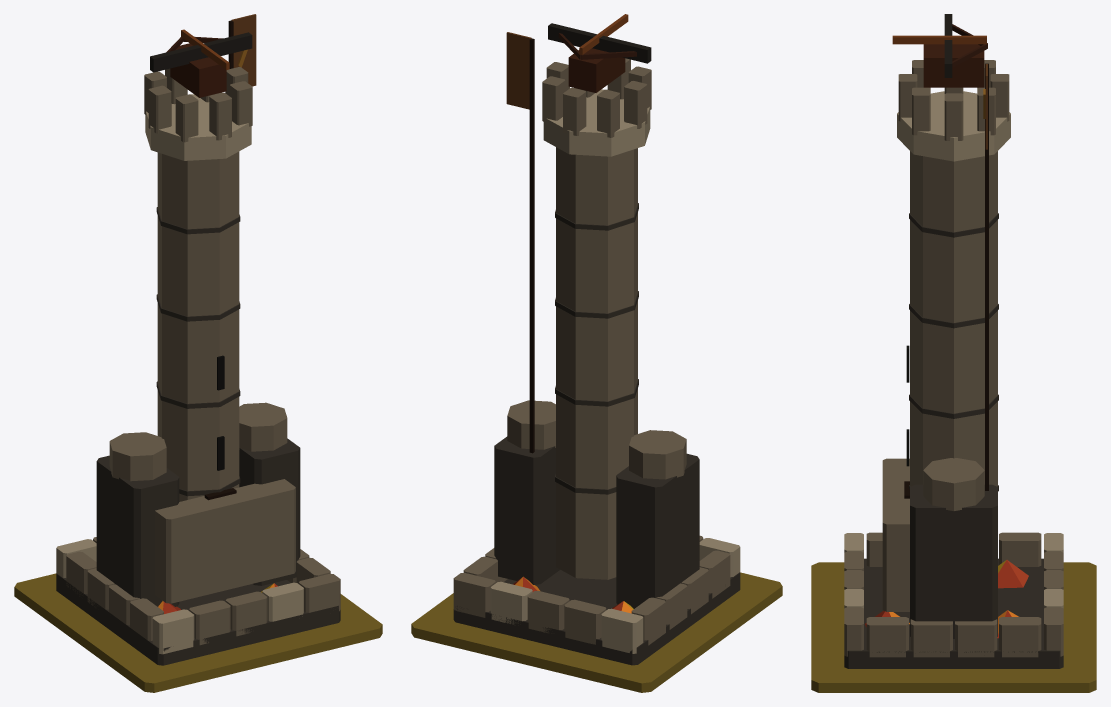
File: bastion_t6.glb
The picture shows the model from 3 angles, left to right: view 1: azimuth 30°, elevation 25°; view 2: azimuth 150°, elevation 25°; view 3: azimuth 270°, elevation 25°; orthographic projection. The views are drawn at different scales.
Visible parts, largest first — view 1: MMR | bastion | T06 Architecture.001, MMR | bastion | T06 Heavy Buttresses.001, MMR | bastion | Tier 06 Ground.001, MMR | bastion | T06 Banner Flag 1.001; view 2: MMR | bastion | T06 Architecture.001, MMR | bastion | T06 Heavy Buttresses.001, MMR | bastion | Tier 06 Ground.001, MMR | bastion | T06 Banner Flag 1.001; view 3: MMR | bastion | T06 Architecture.001, MMR | bastion | T06 Heavy Buttresses.001, MMR | bastion | Tier 06 Ground.001, MMR | bastion | T06 Autumn Dressing.001.
Part boxes in pixels (left/top/right/bottom): MMR | bastion | T06 Architecture.001: left=56, top=20, right=340, bottom=665; MMR | bastion | T06 Heavy Buttresses.001: left=96, top=402, right=300, bottom=606; MMR | bastion | Tier 06 Ground.001: left=14, top=573, right=382, bottom=692; MMR | bastion | T06 Banner Flag 1.001: left=231, top=14, right=256, bottom=86; MMR | bastion | T06 Architecture.001: left=453, top=14, right=740, bottom=665; MMR | bastion | T06 Heavy Buttresses.001: left=494, top=400, right=699, bottom=608; MMR | bastion | Tier 06 Ground.001: left=411, top=572, right=782, bottom=692; MMR | bastion | T06 Banner Flag 1.001: left=506, top=32, right=531, bottom=109; MMR | bastion | T06 Architecture.001: left=844, top=14, right=1063, bottom=668; MMR | bastion | T06 Heavy Buttresses.001: left=882, top=458, right=997, bottom=638; MMR | bastion | Tier 06 Ground.001: left=811, top=562, right=1096, bottom=692; MMR | bastion | T06 Autumn Dressing.001: left=865, top=560, right=1028, bottom=638.
Size of the model in its own units: 1.3 by 3 by 1.3.
1 material, 1 textured.
